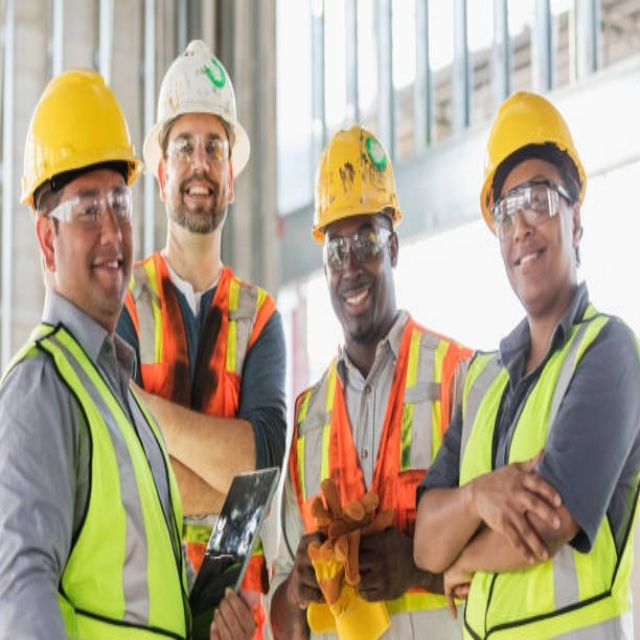Gafas: (490, 182, 573, 240), (44, 185, 135, 227), (322, 221, 394, 269), (166, 134, 231, 164)
Sin_guantes: (471, 450, 567, 569), (355, 520, 412, 607), (282, 528, 329, 616), (207, 584, 258, 636)
Sin_mascara: (84, 243, 127, 296), (511, 239, 548, 296), (338, 274, 378, 325), (180, 172, 220, 218)
